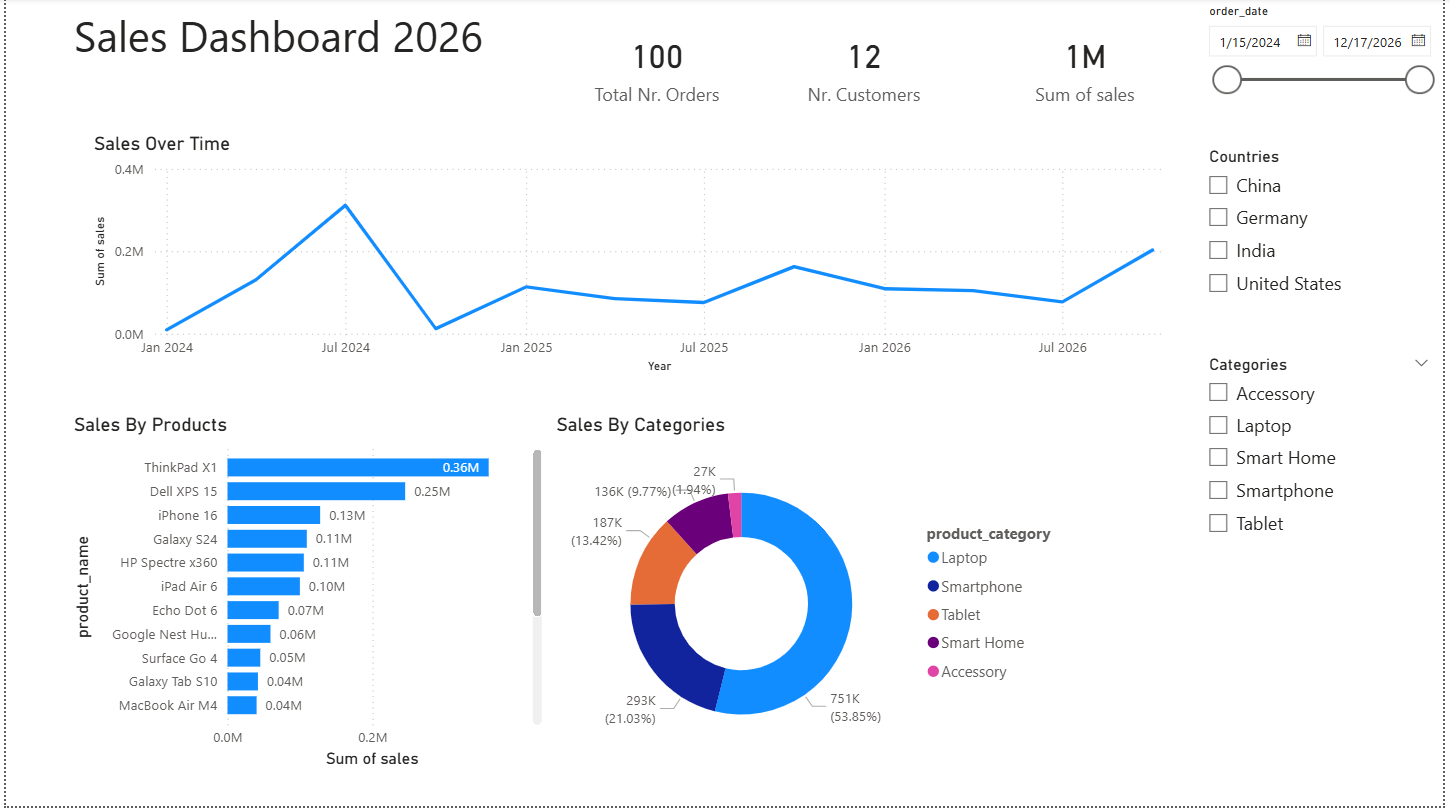

Layout of this report page (visuals, bound fields, positions):
{"tool":"powerbi","page":{"name":"Page 1","canvas":[1280,720],"ordinal":0},"visuals":[{"type":"barChart","title":"Sales By Products","fields":{"Category":["orders.product_name"],"Y":["Sum(orders.sales)"]},"box":[55.6,369.8,426.7,320.6],"z":0},{"type":"donutChart","title":"Sales By Categories","fields":{"Y":["Sum(orders.sales)"],"Category":["orders.product_category"]},"box":[484.8,369.8,465.5,320.6],"z":1000},{"type":"card","fields":{"Values":["CountNonNull(orders.order_id)"]},"box":[504.2,0,151.3,122.8],"z":2000},{"type":"card","fields":{"Values":["Count(orders.customer_id)"]},"box":[680.1,0,168.1,122.8],"z":3000},{"type":"card","fields":{"Values":["Sum(orders.sales)"]},"box":[862.4,0,196.5,122.8],"z":4000},{"type":"lineChart","title":"Sales Over Time","fields":{"Category":["orders.order_date.Variation.Date Hierarchy.Year","orders.order_date.Variation.Date Hierarchy.Quarter","orders.order_date.Variation.Date Hierarchy.Month","orders.order_date.Variation.Date Hierarchy.Day"],"Y":["Sum(orders.sales)"]},"box":[73.7,118.9,974.9,219.8],"z":5000},{"type":"slicer","fields":{"Values":["customers.country"]},"box":[1058.9,128,221.1,153.9],"z":6000},{"type":"slicer","fields":{"Values":["orders.product_category"]},"box":[1058.9,312.9,221.1,196.5],"z":7000},{"type":"slicer","fields":{"Values":["orders.order_date"]},"box":[1058.9,0,221.1,128],"z":8000},{"type":"textbox","box":[55.6,3.9,426.7,75],"z":9000}]}

Visuals, with their boxes in screenshot pixels (x1, y1, x2, y2), scaled from the page's 1280x720 canvas onto the 1450x811 screenshot:
"Sales By Products" barChart: (63, 417, 546, 778)
"Sales By Categories" donutChart: (549, 417, 1077, 778)
card - CountNonNull(orders.order_id): (571, 0, 743, 138)
card - Count(orders.customer_id): (770, 0, 961, 138)
card - Sum(orders.sales): (977, 0, 1200, 138)
"Sales Over Time" lineChart: (83, 134, 1188, 382)
slicer - customers.country: (1200, 144, 1449, 318)
slicer - orders.product_category: (1200, 352, 1449, 574)
slicer - orders.order_date: (1200, 0, 1449, 144)
textbox: (63, 4, 546, 89)
